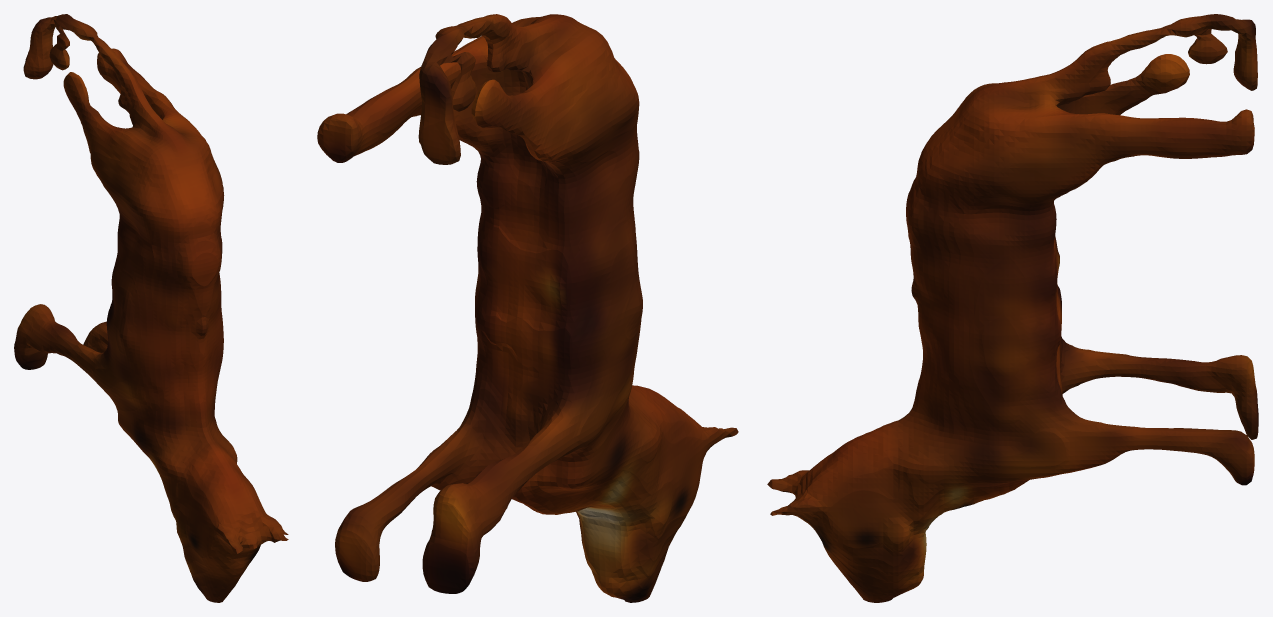
File: dog.obj
3 renders of one model, left to right at view 1: azimuth 30°, elevation 25°; view 2: azimuth 150°, elevation 25°; view 3: azimuth 270°, elevation 25°, orthographic. The views are drawn at different scales.
Bounding box in the file's own units: 0.4723 × 1.98 × 1.51.
